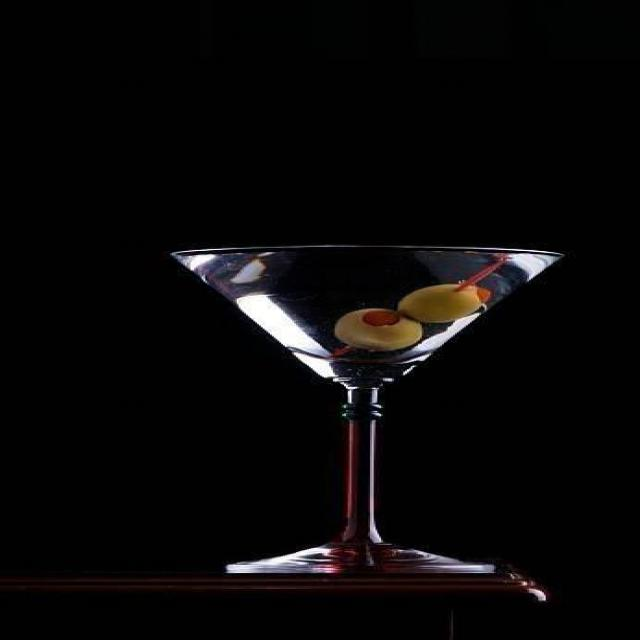glass-wine: (168, 243, 570, 573)
